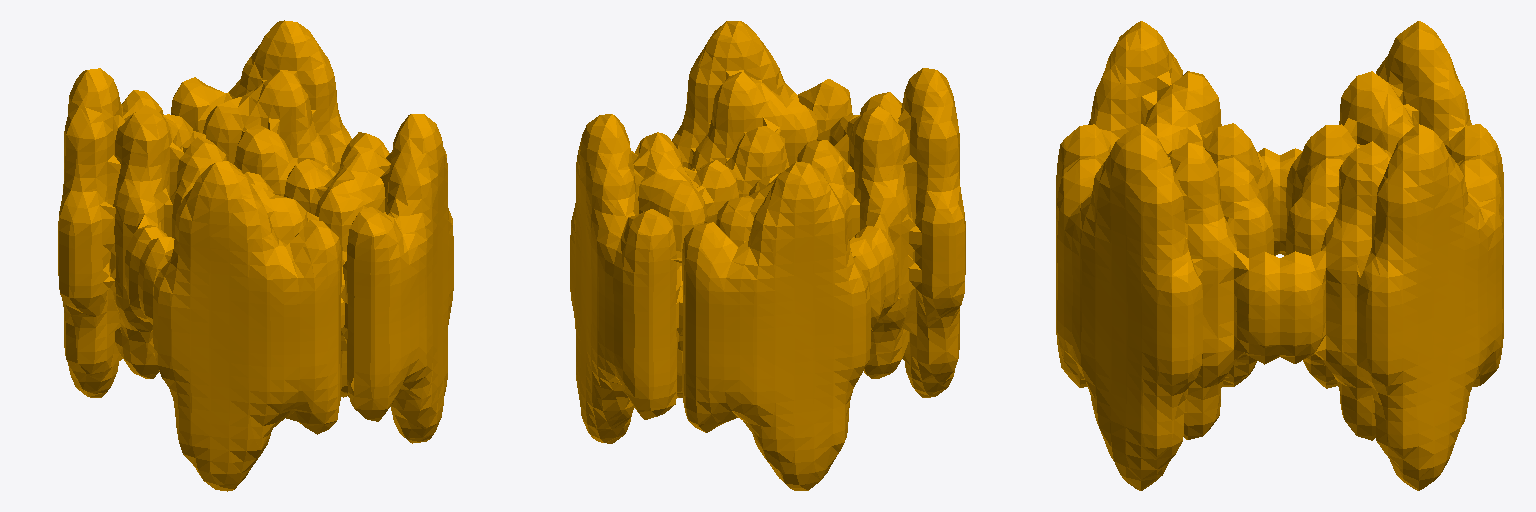
robot.urdf — H21_0:
<?xml version="1.0"?>
<robot name="H21_0">
  <link name="base_link">
    <inertial>
      <mass value="0.07325" />
      <origin xyz="0 0 0" />
      <inertia  ixx="0.0002" ixy="0.0"  ixz="0.0"  iyy="0.0002"  iyz="0.0" izz="0.0002" />
    </inertial>
    <visual>
      <geometry>
        <mesh filename="../../../meshes/egad/train/H21_0.obj" />
      </geometry>
    </visual>
    <collision>
      <geometry>
        <mesh filename="../../../meshes/egad/train/H21_0.obj" />
      </geometry>
    </collision>
  </link>
</robot>

--- Facts derived from the render (not from the file) ---
The picture shows the robot from 3 angles, left to right: view 1: azimuth 30°, elevation 25°; view 2: azimuth 150°, elevation 25°; view 3: azimuth 270°, elevation 25°; orthographic projection.
Robot: H21_0 — 1 links, 0 joints (none); root link base_link; default pose: every joint at zero.
Links seen in each view (by area): view 1: base_link; view 2: base_link; view 3: base_link.
Link boxes in pixels (x1,y1,x2,y2): base_link: [58, 20, 453, 491]; base_link: [570, 21, 965, 490]; base_link: [1056, 21, 1503, 490].
Bounding box of the posed robot: 0.06 × 0.0724 × 0.0646 m (x, y, z).
1 mesh visuals loaded from 1 distinct referenced files (1 OBJ).